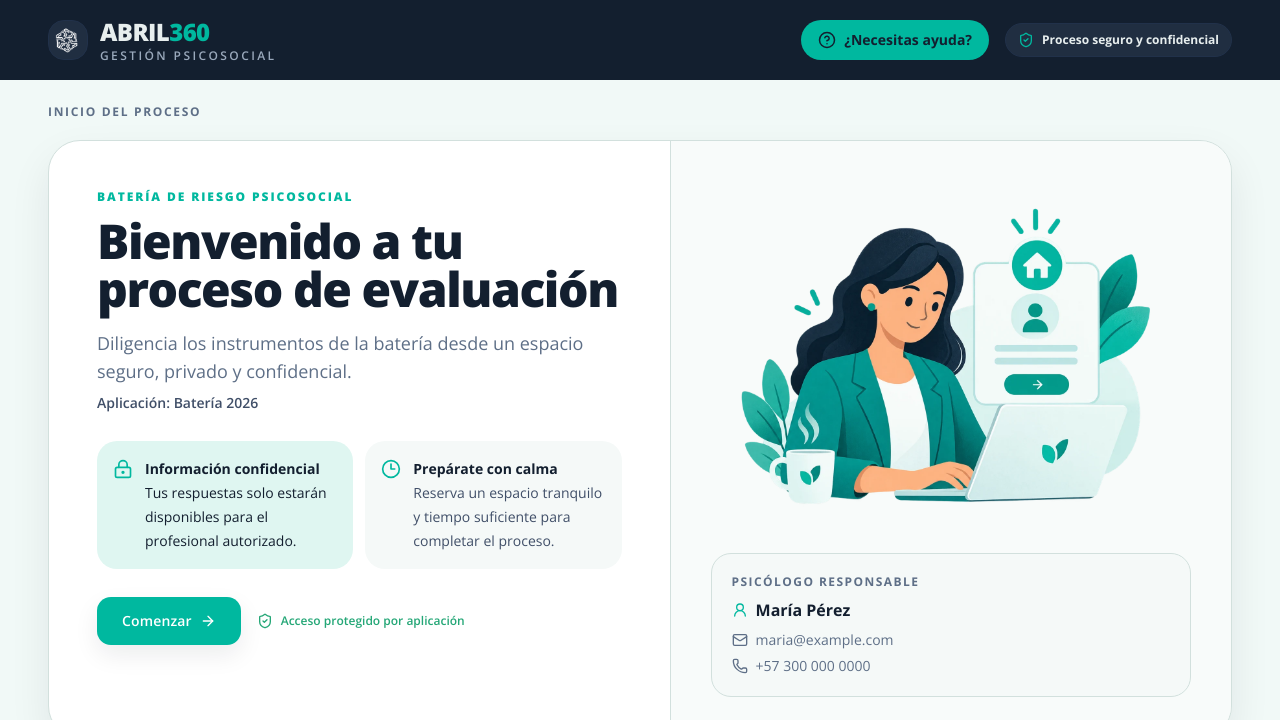
Test: flujo público WEB_DIRECT › abre el centro de ayuda con los canales registrados del profesional y la empresa
This screenshot has width=1280, height=720.
Click the button named "Abrir centro de ayuda" at (895, 40), box [801,20,989,60]
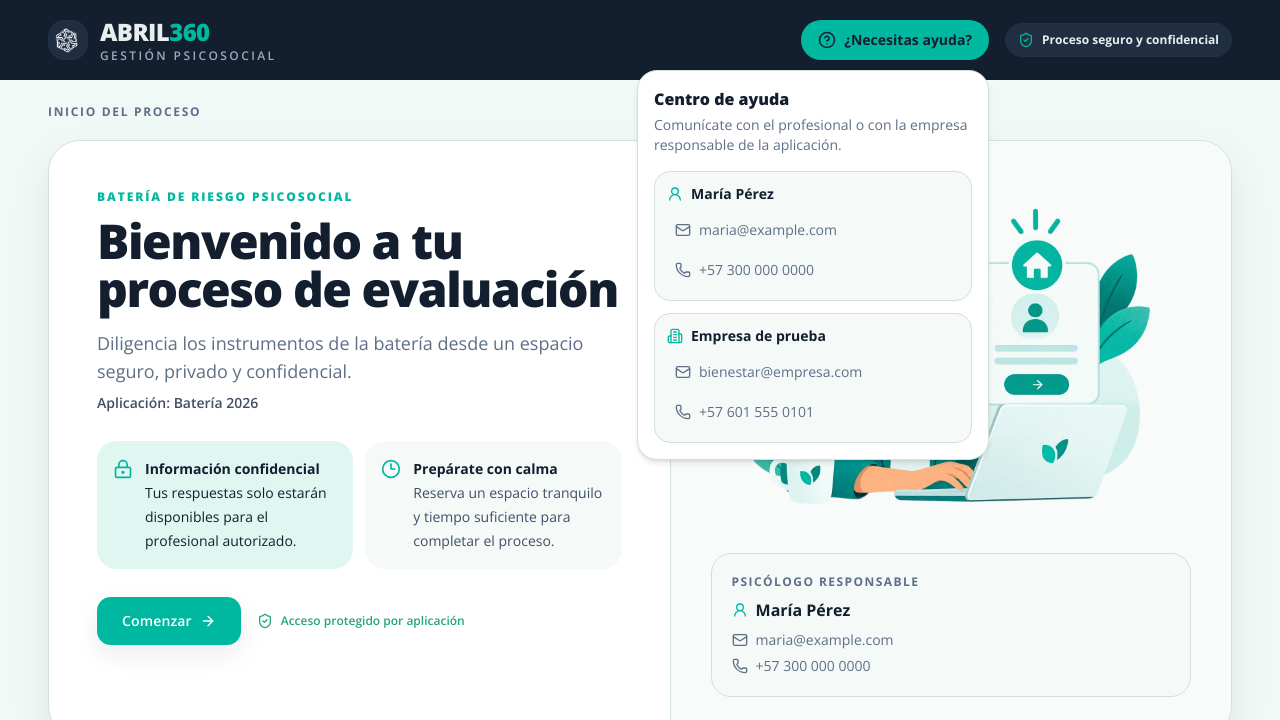
Result: the text "Centro de ayuda" is shown at [654,88,789,110]
